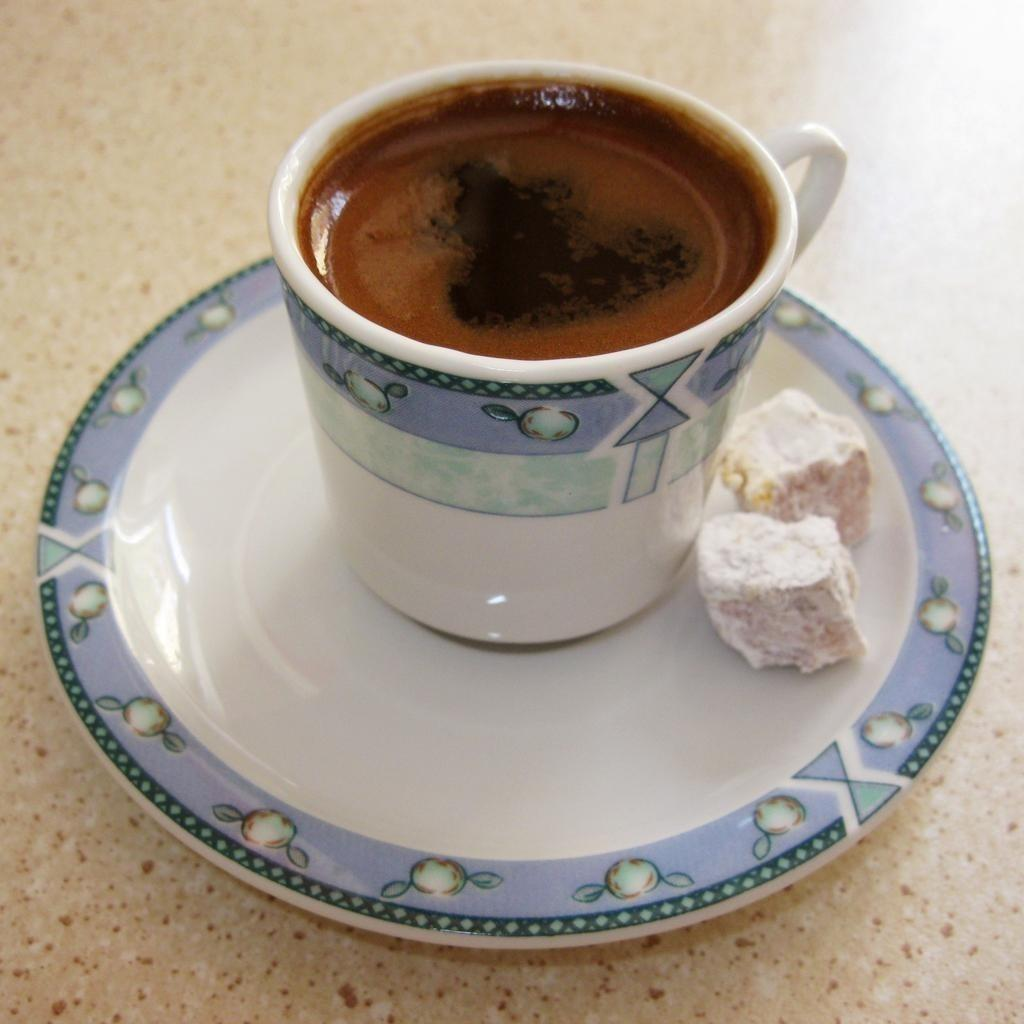cup-handle: (263, 57, 847, 655)
